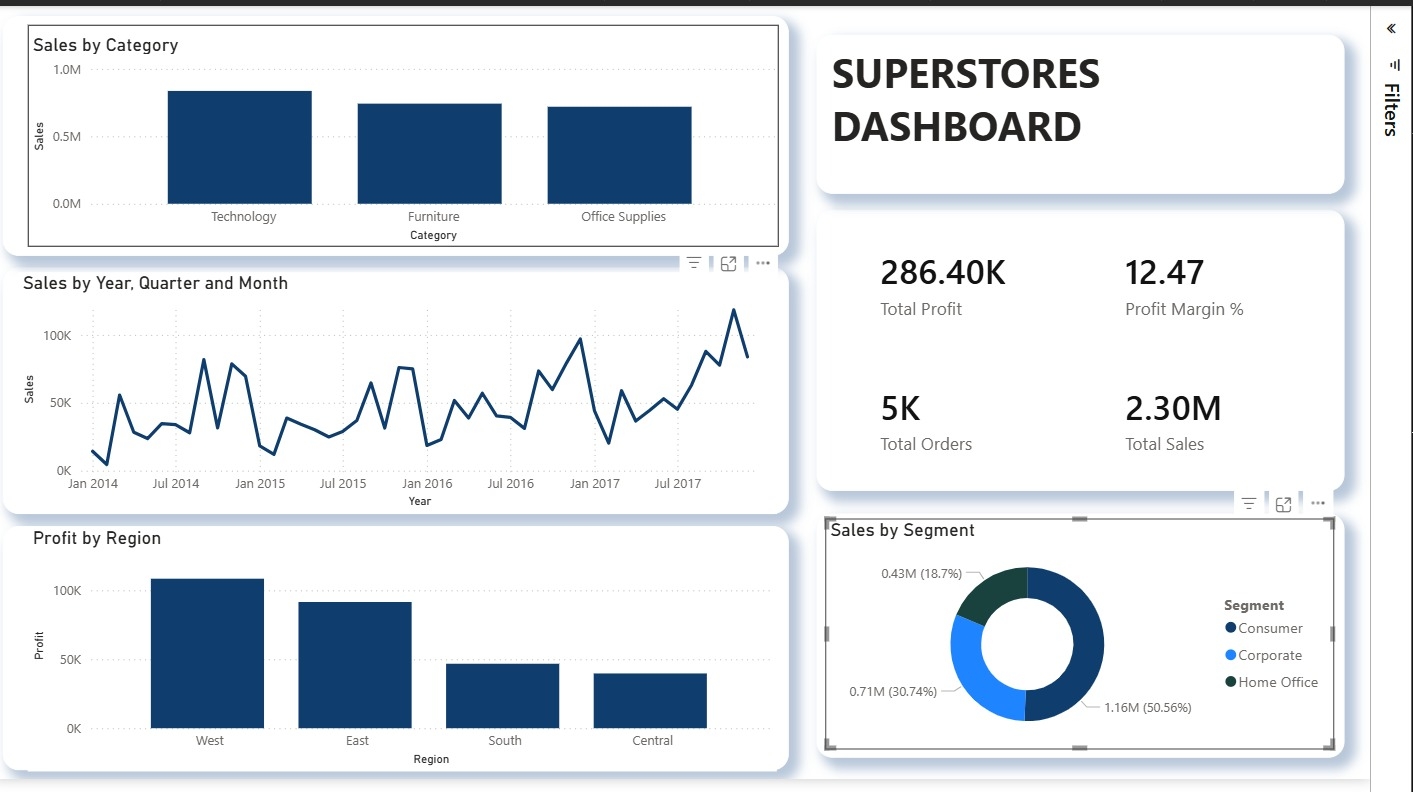

What the dashboard file says about the page in this screenshot:
{"tool":"powerbi","page":{"name":"Page 1","canvas":[1280,720],"ordinal":0},"visuals":[{"type":"shape","box":[764.9,189.7,491.1,261.8],"z":0},{"type":"cardVisual","fields":{"Data":["Sample - Superstore.Total Sales"]},"box":[1023,330.2,216.1,108.1],"z":1000},{"type":"cardVisual","fields":{"Data":["Sample - Superstore.Total Profit"]},"box":[794.9,204.1,216.1,106.9],"z":2000},{"type":"cardVisual","fields":{"Data":["Sample - Superstore.Total Orders"]},"box":[794.9,330.2,216.1,108.1],"z":3000},{"type":"shape","box":[8.4,242.6,731.3,229.3],"z":4000},{"type":"cardVisual","fields":{"Data":["Sample - Superstore.Profit Margin %"]},"box":[1023,204.1,216.1,106.9],"z":5000},{"type":"shape","box":[8.4,9.6,731.3,223.3],"z":6000},{"type":"lineChart","fields":{"Y":["Sample - Superstore.Total Sales"],"Category":["Sample - Superstore.Order Date.Variation.Date Hierarchy.Year","Sample - Superstore.Order Date.Variation.Date Hierarchy.Quarter","Sample - Superstore.Order Date.Variation.Date Hierarchy.Month"]},"box":[21.6,247.4,706,224.5],"z":7000},{"type":"columnChart","fields":{"Y":["Sample - Superstore.Total Sales"],"Category":["Sample - Superstore.Category"]},"box":[31.2,18,698.8,206.5],"z":8000},{"type":"shape","box":[8.4,483.9,731.3,226.9],"z":9000},{"type":"columnChart","fields":{"Category":["Sample - Superstore.Region"],"Y":["Sample - Superstore.Total Profit"]},"box":[31.2,485.1,696.4,226.9],"z":10000},{"type":"shape","box":[764.9,471.9,491.1,226.9],"z":11000},{"type":"donutChart","fields":{"Y":["Sample - Superstore.Total Sales"],"Category":["Sample - Superstore.Segment"]},"box":[774.5,479.1,473.1,214.9],"z":12000},{"type":"shape","box":[764.9,26.4,491.1,147.7],"z":12001},{"type":"textbox","box":[774.5,31.2,464.7,127.3],"z":12002}]}

Visuals, with their boxes on the page's 1280x720 design canvas (x1, y1, x2, y2). These are canvas units, not pixel positions in the 1413x792 screenshot, which may show the page scaled, cropped or inside an application window:
shape: [x1=765, y1=190, x2=1256, y2=452]
cardVisual - Sample - Superstore.Total Sales: [x1=1023, y1=330, x2=1239, y2=438]
cardVisual - Sample - Superstore.Total Profit: [x1=795, y1=204, x2=1011, y2=311]
cardVisual - Sample - Superstore.Total Orders: [x1=795, y1=330, x2=1011, y2=438]
shape: [x1=8, y1=243, x2=740, y2=472]
cardVisual - Sample - Superstore.Profit Margin %: [x1=1023, y1=204, x2=1239, y2=311]
shape: [x1=8, y1=10, x2=740, y2=233]
lineChart - Sample - Superstore.Total Sales x Sample - Superstore.Order Date.Variation.Date Hierarchy.Year: [x1=22, y1=247, x2=728, y2=472]
columnChart - Sample - Superstore.Total Sales x Sample - Superstore.Category: [x1=31, y1=18, x2=730, y2=224]
shape: [x1=8, y1=484, x2=740, y2=711]
columnChart - Sample - Superstore.Region x Sample - Superstore.Total Profit: [x1=31, y1=485, x2=728, y2=712]
shape: [x1=765, y1=472, x2=1256, y2=699]
donutChart - Sample - Superstore.Total Sales x Sample - Superstore.Segment: [x1=774, y1=479, x2=1248, y2=694]
shape: [x1=765, y1=26, x2=1256, y2=174]
textbox: [x1=774, y1=31, x2=1239, y2=158]
